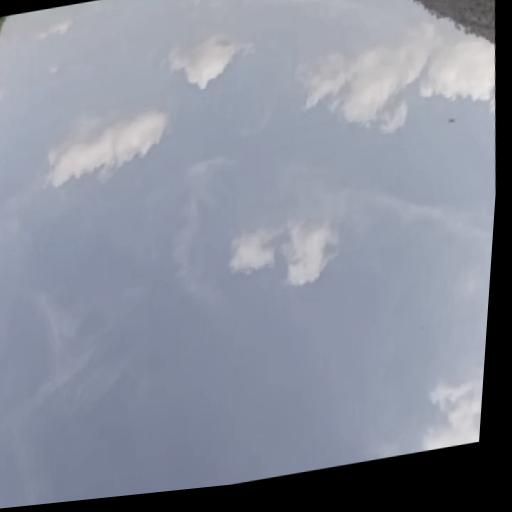drones: (444, 109, 461, 133)
